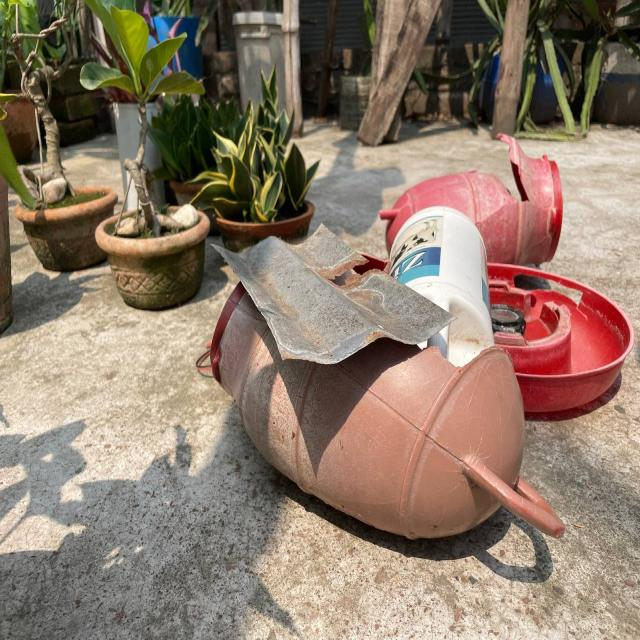E-waste: (488, 286, 524, 343)
Metal: (215, 211, 430, 370)
Plastics: (211, 339, 640, 553), (419, 139, 492, 333)
